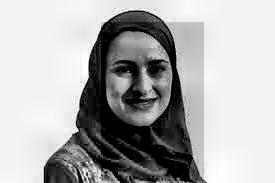happy: (102, 22, 205, 181)
